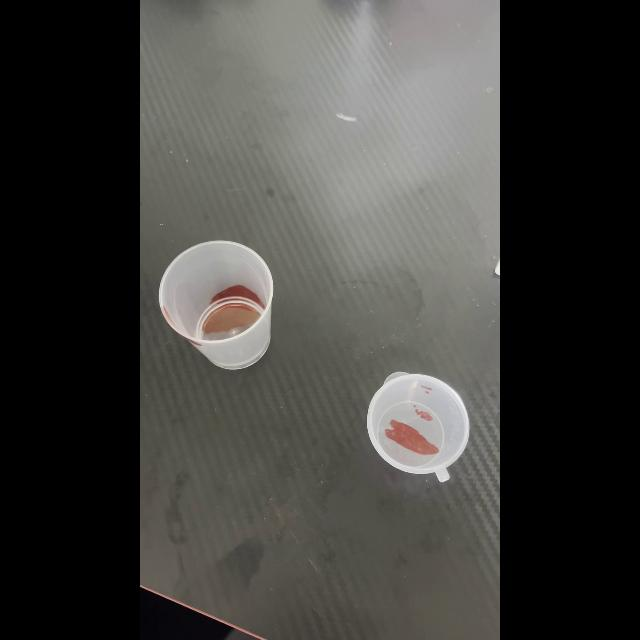dirty: (158, 240, 274, 368), (366, 374, 470, 481)
